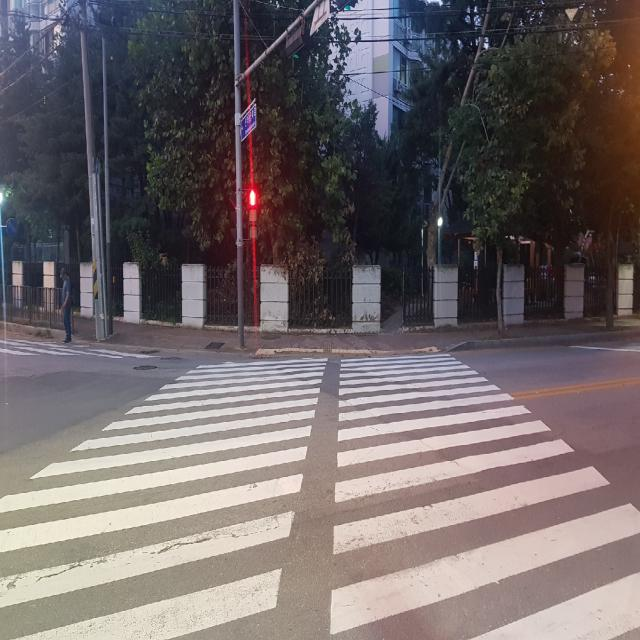빨간불: (250, 190, 257, 240)
횡단보도: (0, 353, 640, 640)
